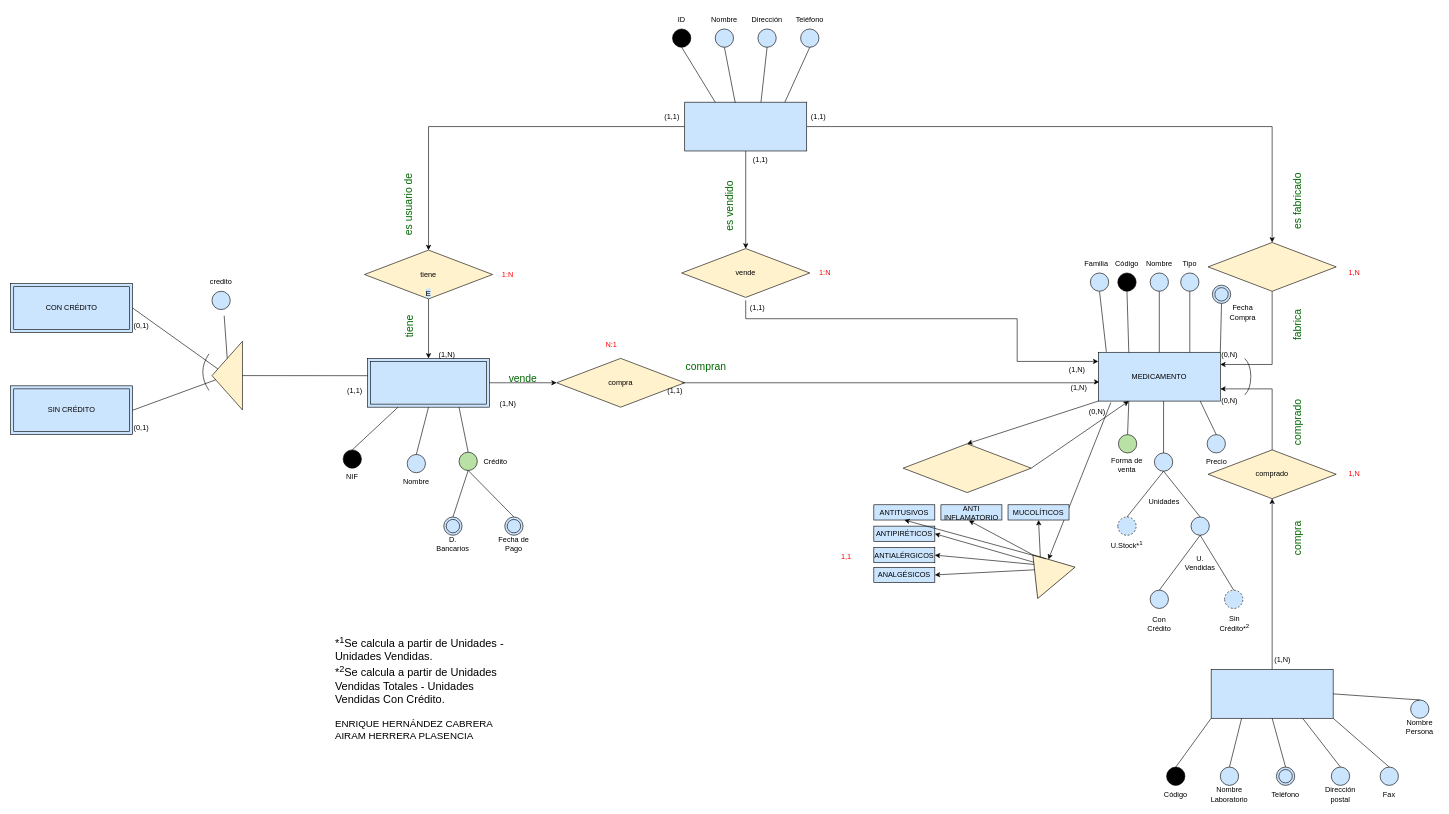
Image size: 1449x814. Some labels were removed from this diagram. Each missing label, with the centre of its shape:
CLIENTE: point (428, 382)
Es_un: point (1044, 568)
fabricado: point (1271, 266)
FARMACIA: point (745, 126)
LABORATORIO: point (1272, 693)
Sustituye: point (966, 468)
